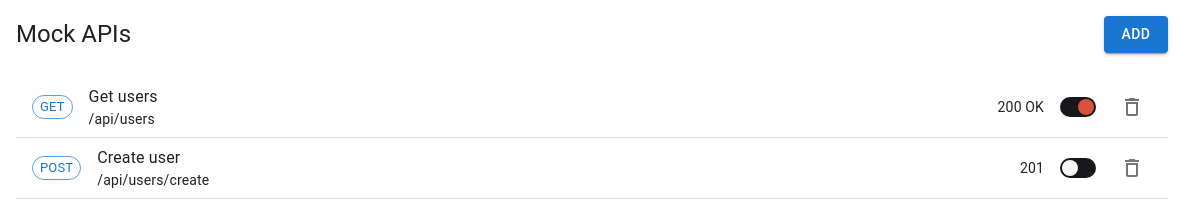
MockApiPage › removes a row when its delete button is clicked, without navigating
Click the button named "Delete Get users". click: coordinates (1132, 106)
box: [1112,86,1152,126]
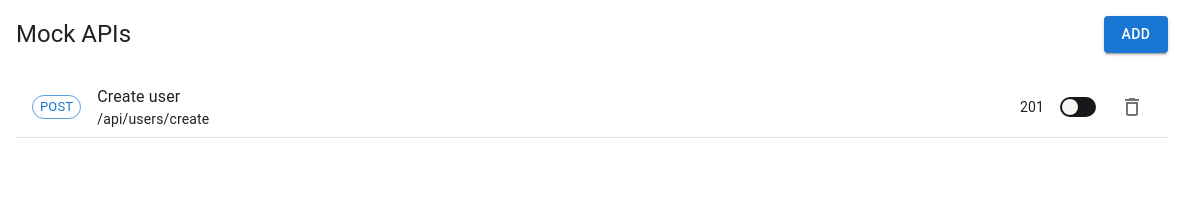
Expected: the text "Create user" is shown, [97,86,180,106]
Expected: the button "Get users" is gone
